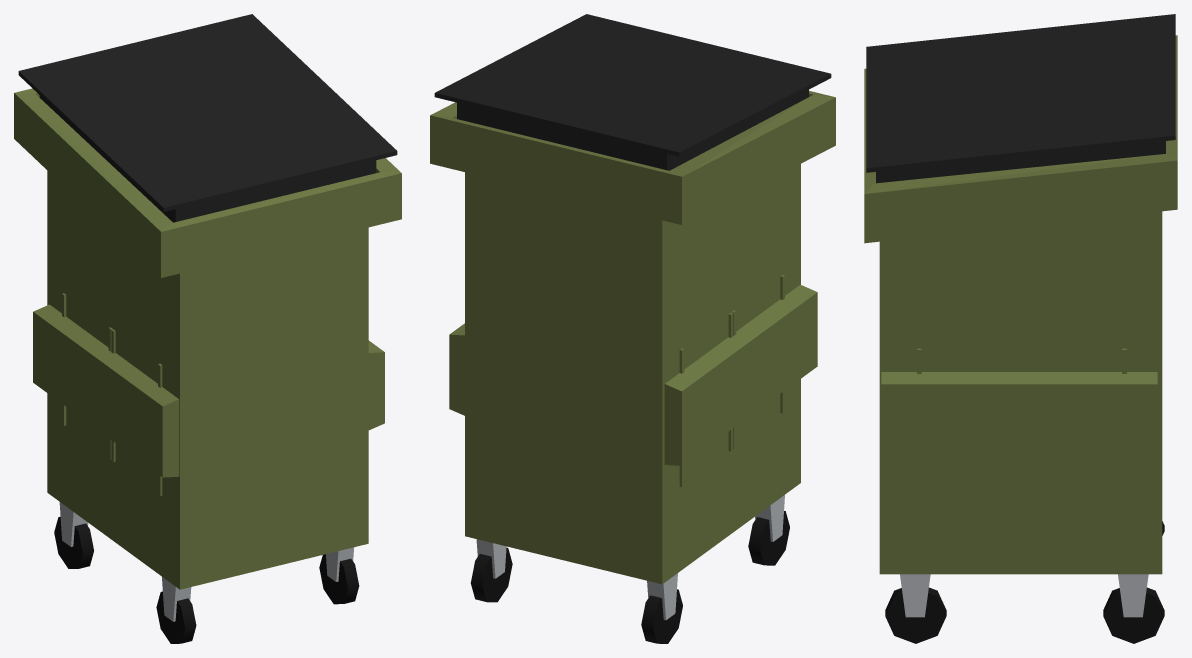
File: SM_garbagecan_small_closed.fbx
3 renders of one model, left to right at view 1: azimuth 30°, elevation 25°; view 2: azimuth 150°, elevation 25°; view 3: azimuth 270°, elevation 25°, orthographic. The views are drawn at different scales.
Parts seen in each view (by area): view 1: Box057; view 2: Box057; view 3: Box057.
Part boxes in pixels (x1,y1,x2,y2): Box057: (14,14,401,643); Box057: (430,14,835,643); Box057: (864,14,1177,643).
Size of the model in its own units: 27.16 by 28.71 by 52.96.
